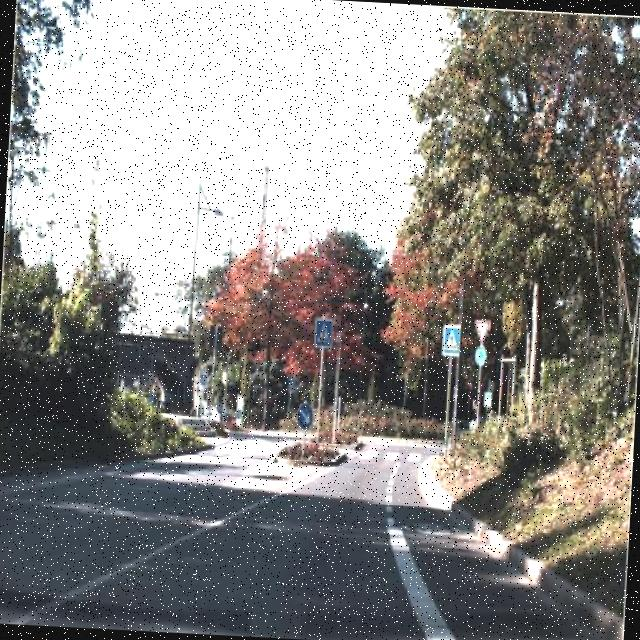Przejscie dla pieszych: (440, 322, 462, 361), (313, 316, 335, 350)
Ustap pierwszenstwa: (473, 318, 494, 348)
